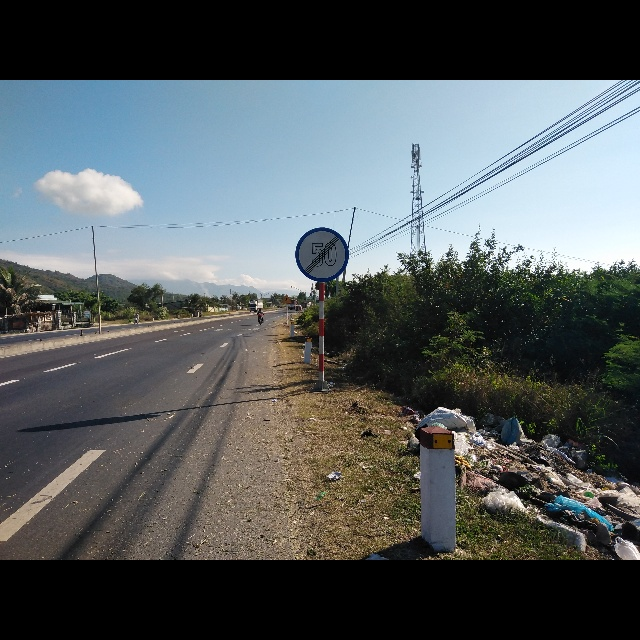Hết hạn chế tốc độ tối đa 50km/h: (294, 224, 352, 284)
